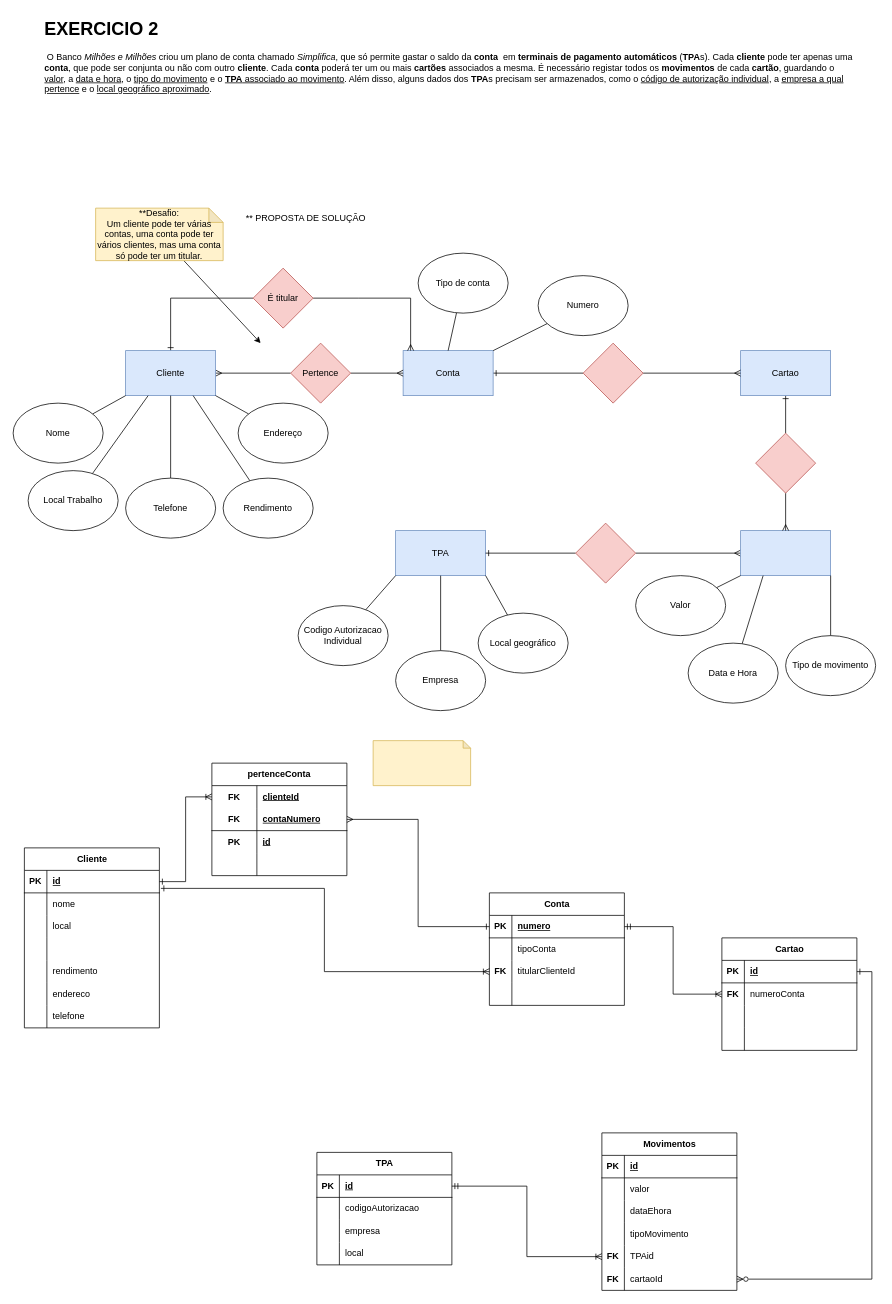
Some shapes in this 892 by 1304 pixel diagram are drawn without their labels. Each missing label, with the centre of its shape:
"clienteId e contaNumero podiam ser em conjunto uma chave composta." belongs at pixel 421 763.
"Feito" belongs at pixel 605 552.
"Movimento" belongs at pixel 785 553.
"Regista" belongs at pixel 785 462.
"Tem" belongs at pixel 612 372.
